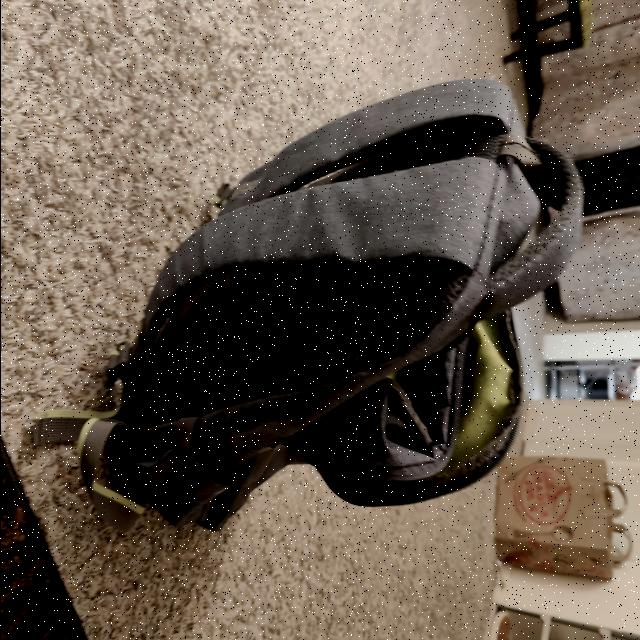bag: (88, 72, 579, 550)
